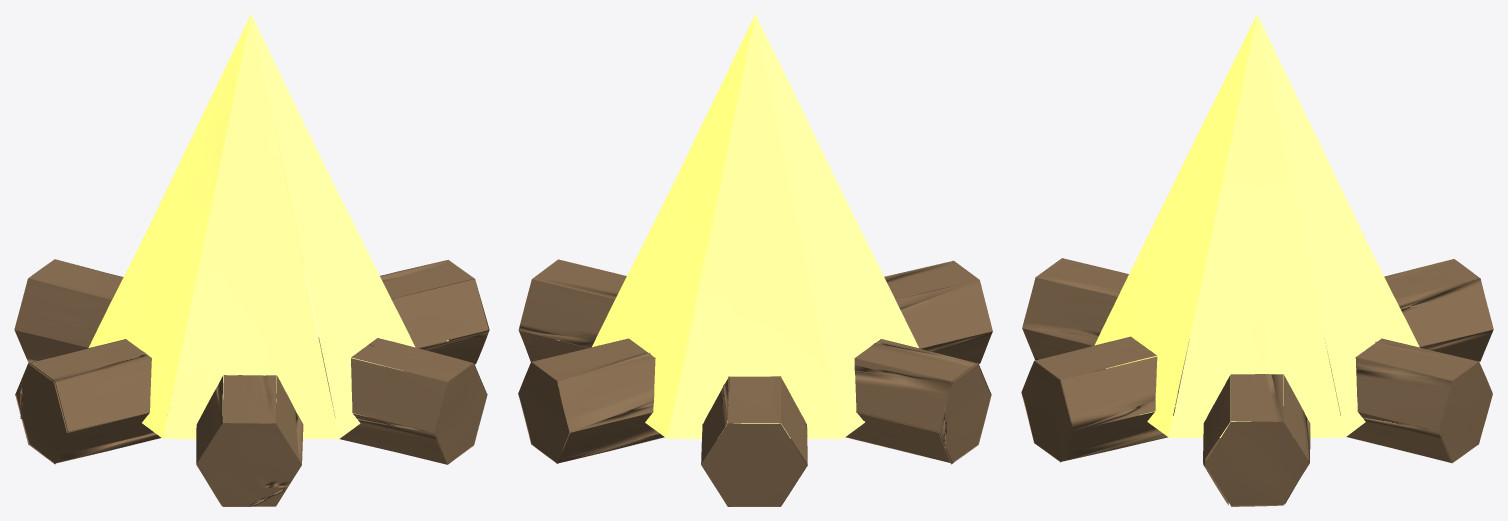
The model's file is campfire.glb.
3 views of the same model, side by side, from view 1: azimuth 30°, elevation 25°; view 2: azimuth 150°, elevation 25°; view 3: azimuth 270°, elevation 25° (orthographic).
Visible parts, largest first — view 1: CampfireLog0; view 2: CampfireLog0; view 3: CampfireLog0.
Part boxes in pixels (x1,y1,x2,y2): CampfireLog0: [14, 14, 489, 506]; CampfireLog0: [518, 14, 992, 506]; CampfireLog0: [1021, 14, 1493, 506].
Bounding box in the file's own units: 1.11 × 0.98 × 1.07.
